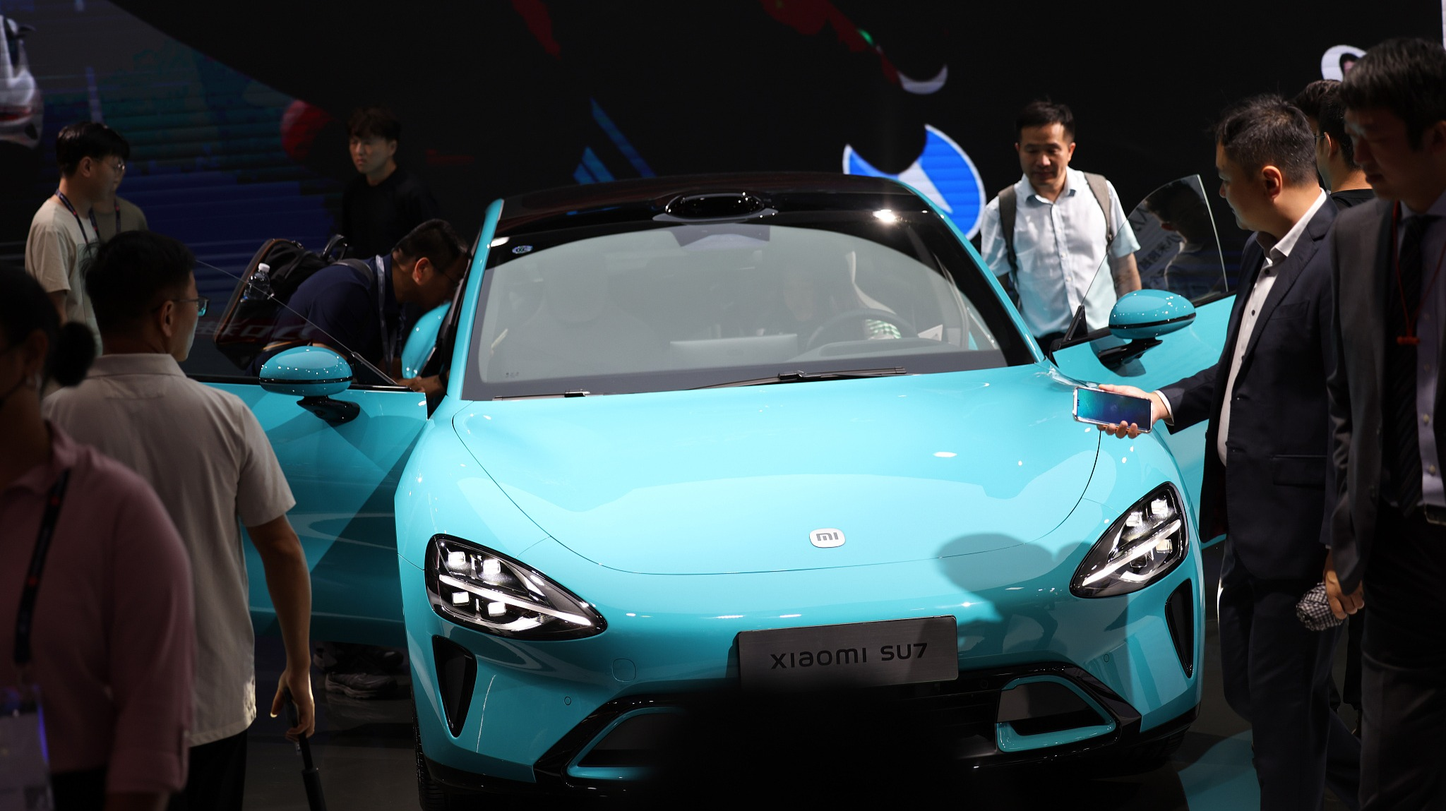su7: (370, 162, 1212, 811)
